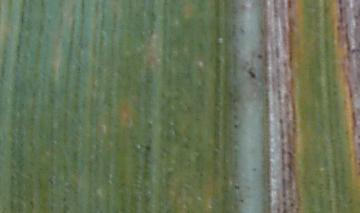tarspot: (247, 66, 256, 78), (143, 144, 152, 152), (232, 183, 242, 190), (256, 53, 263, 60), (238, 197, 245, 204), (232, 122, 238, 130), (251, 166, 257, 172)
